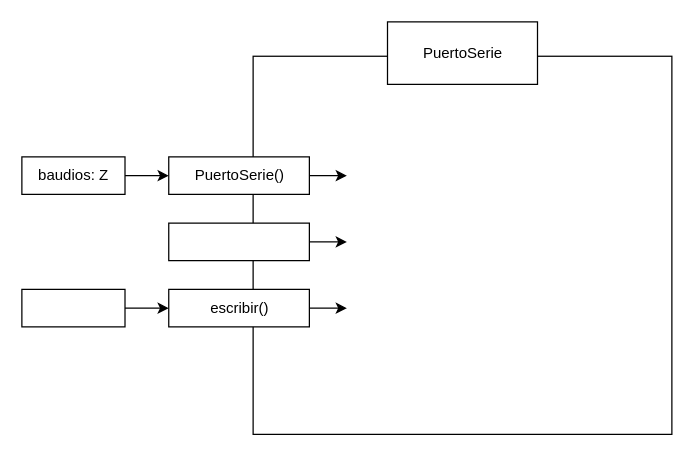
Some shapes in this 694 by 456 pixel diagram are drawn without their labels. The box of each missing label's shape, as (x1, y1, x2, y2) in pixels:
esperarDisponible(): (168, 222, 309, 261)
mensaje: T: (21, 288, 125, 327)
